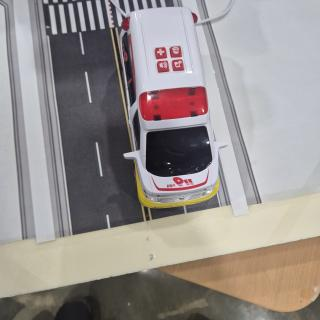Ambulance: (120, 7, 229, 208)
